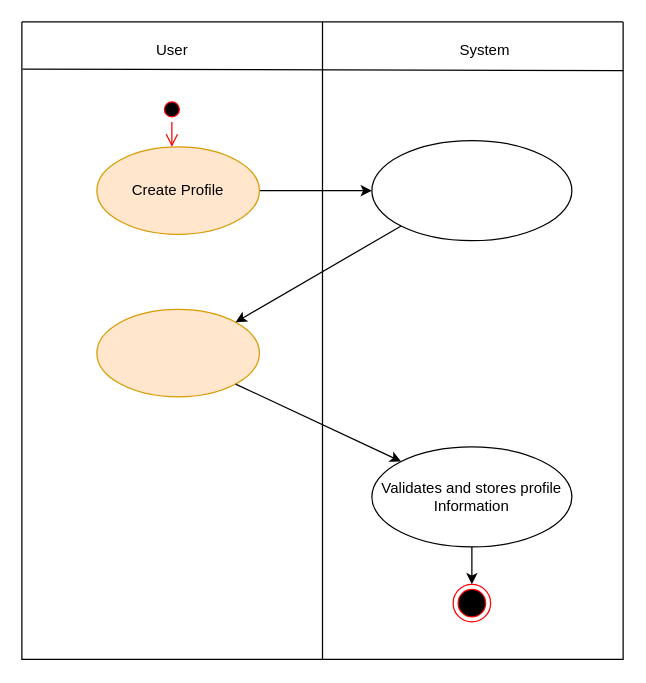
Image size: 646x683. Some labels were removed from this diagram. The shapes that lost their labels are listed below. From the top down, each one's centre as x and y in pixels, then its label:
At (471,190): "Enter Educational Background, professional experience, and interests".
At (177,352): "Enters profile information".
